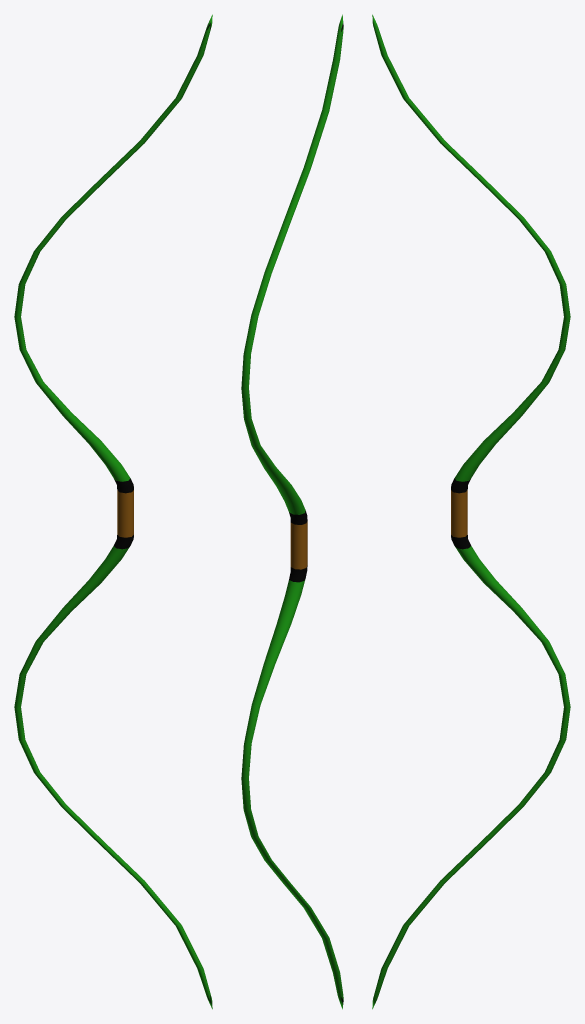
File: bow.glb
3 renders of one model, left to right at view 1: azimuth 90°, elevation 25°; view 2: azimuth 150°, elevation 25°; view 3: azimuth 270°, elevation 25°, orthographic.
Visible parts, largest first — view 1: bow; view 2: bow; view 3: bow.
Part boxes in pixels (x1,y1,x2,y2): bow: (14,14,212,1009); bow: (241,14,343,1009); bow: (372,14,570,1009).
Bounding box in the file's own units: 0.0255 × 1.66 × 0.2992.
Materials: 1 (1 with a texture image).
